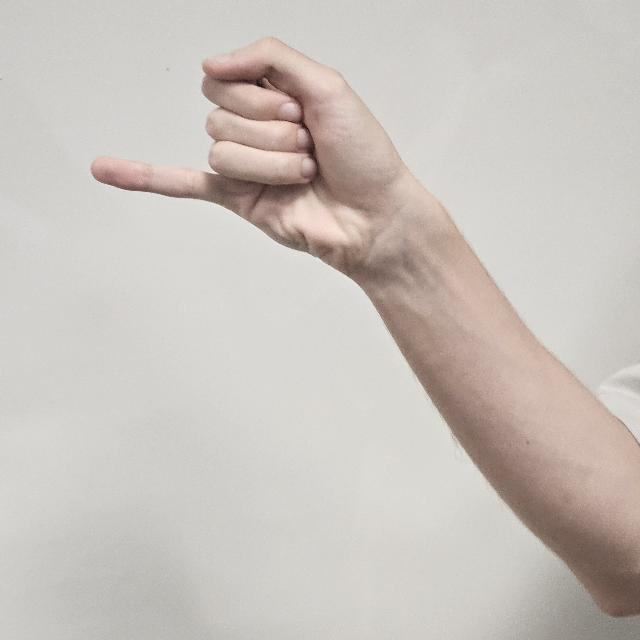Esquerda: (94, 32, 422, 314)
